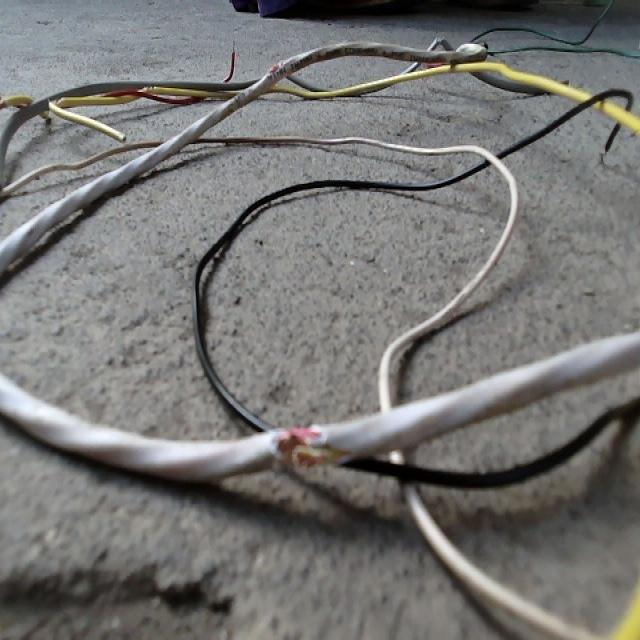-: (270, 421, 350, 464)
